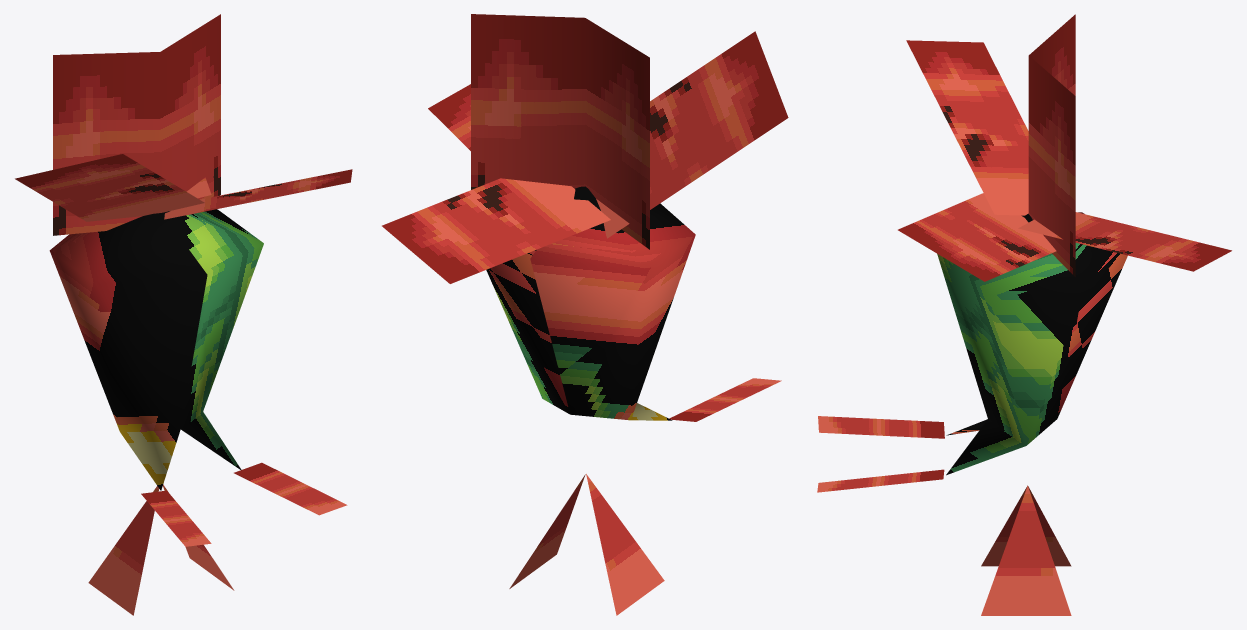
The picture shows the model from 3 angles, left to right: view 1: azimuth 30°, elevation 25°; view 2: azimuth 150°, elevation 25°; view 3: azimuth 270°, elevation 25°; orthographic projection. The views are drawn at different scales.
Visible parts, largest first — view 1: 5050musi60_room; view 2: 5050musi60_room; view 3: 5050musi60_room.
Part boxes in pixels (bbox=[...]): 5050musi60_room: bbox=[15, 14, 352, 615]; 5050musi60_room: bbox=[382, 14, 788, 615]; 5050musi60_room: bbox=[817, 14, 1231, 615].
Size of the model in its own units: 0.3755 by 0.5664 by 0.3979.
1 material, 1 textured.
